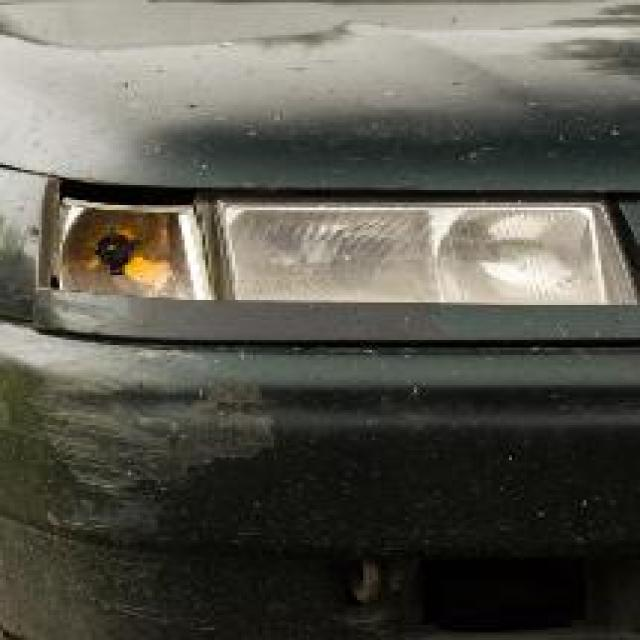Bumper: (27, 340, 324, 558)
Light: (36, 188, 280, 315)
